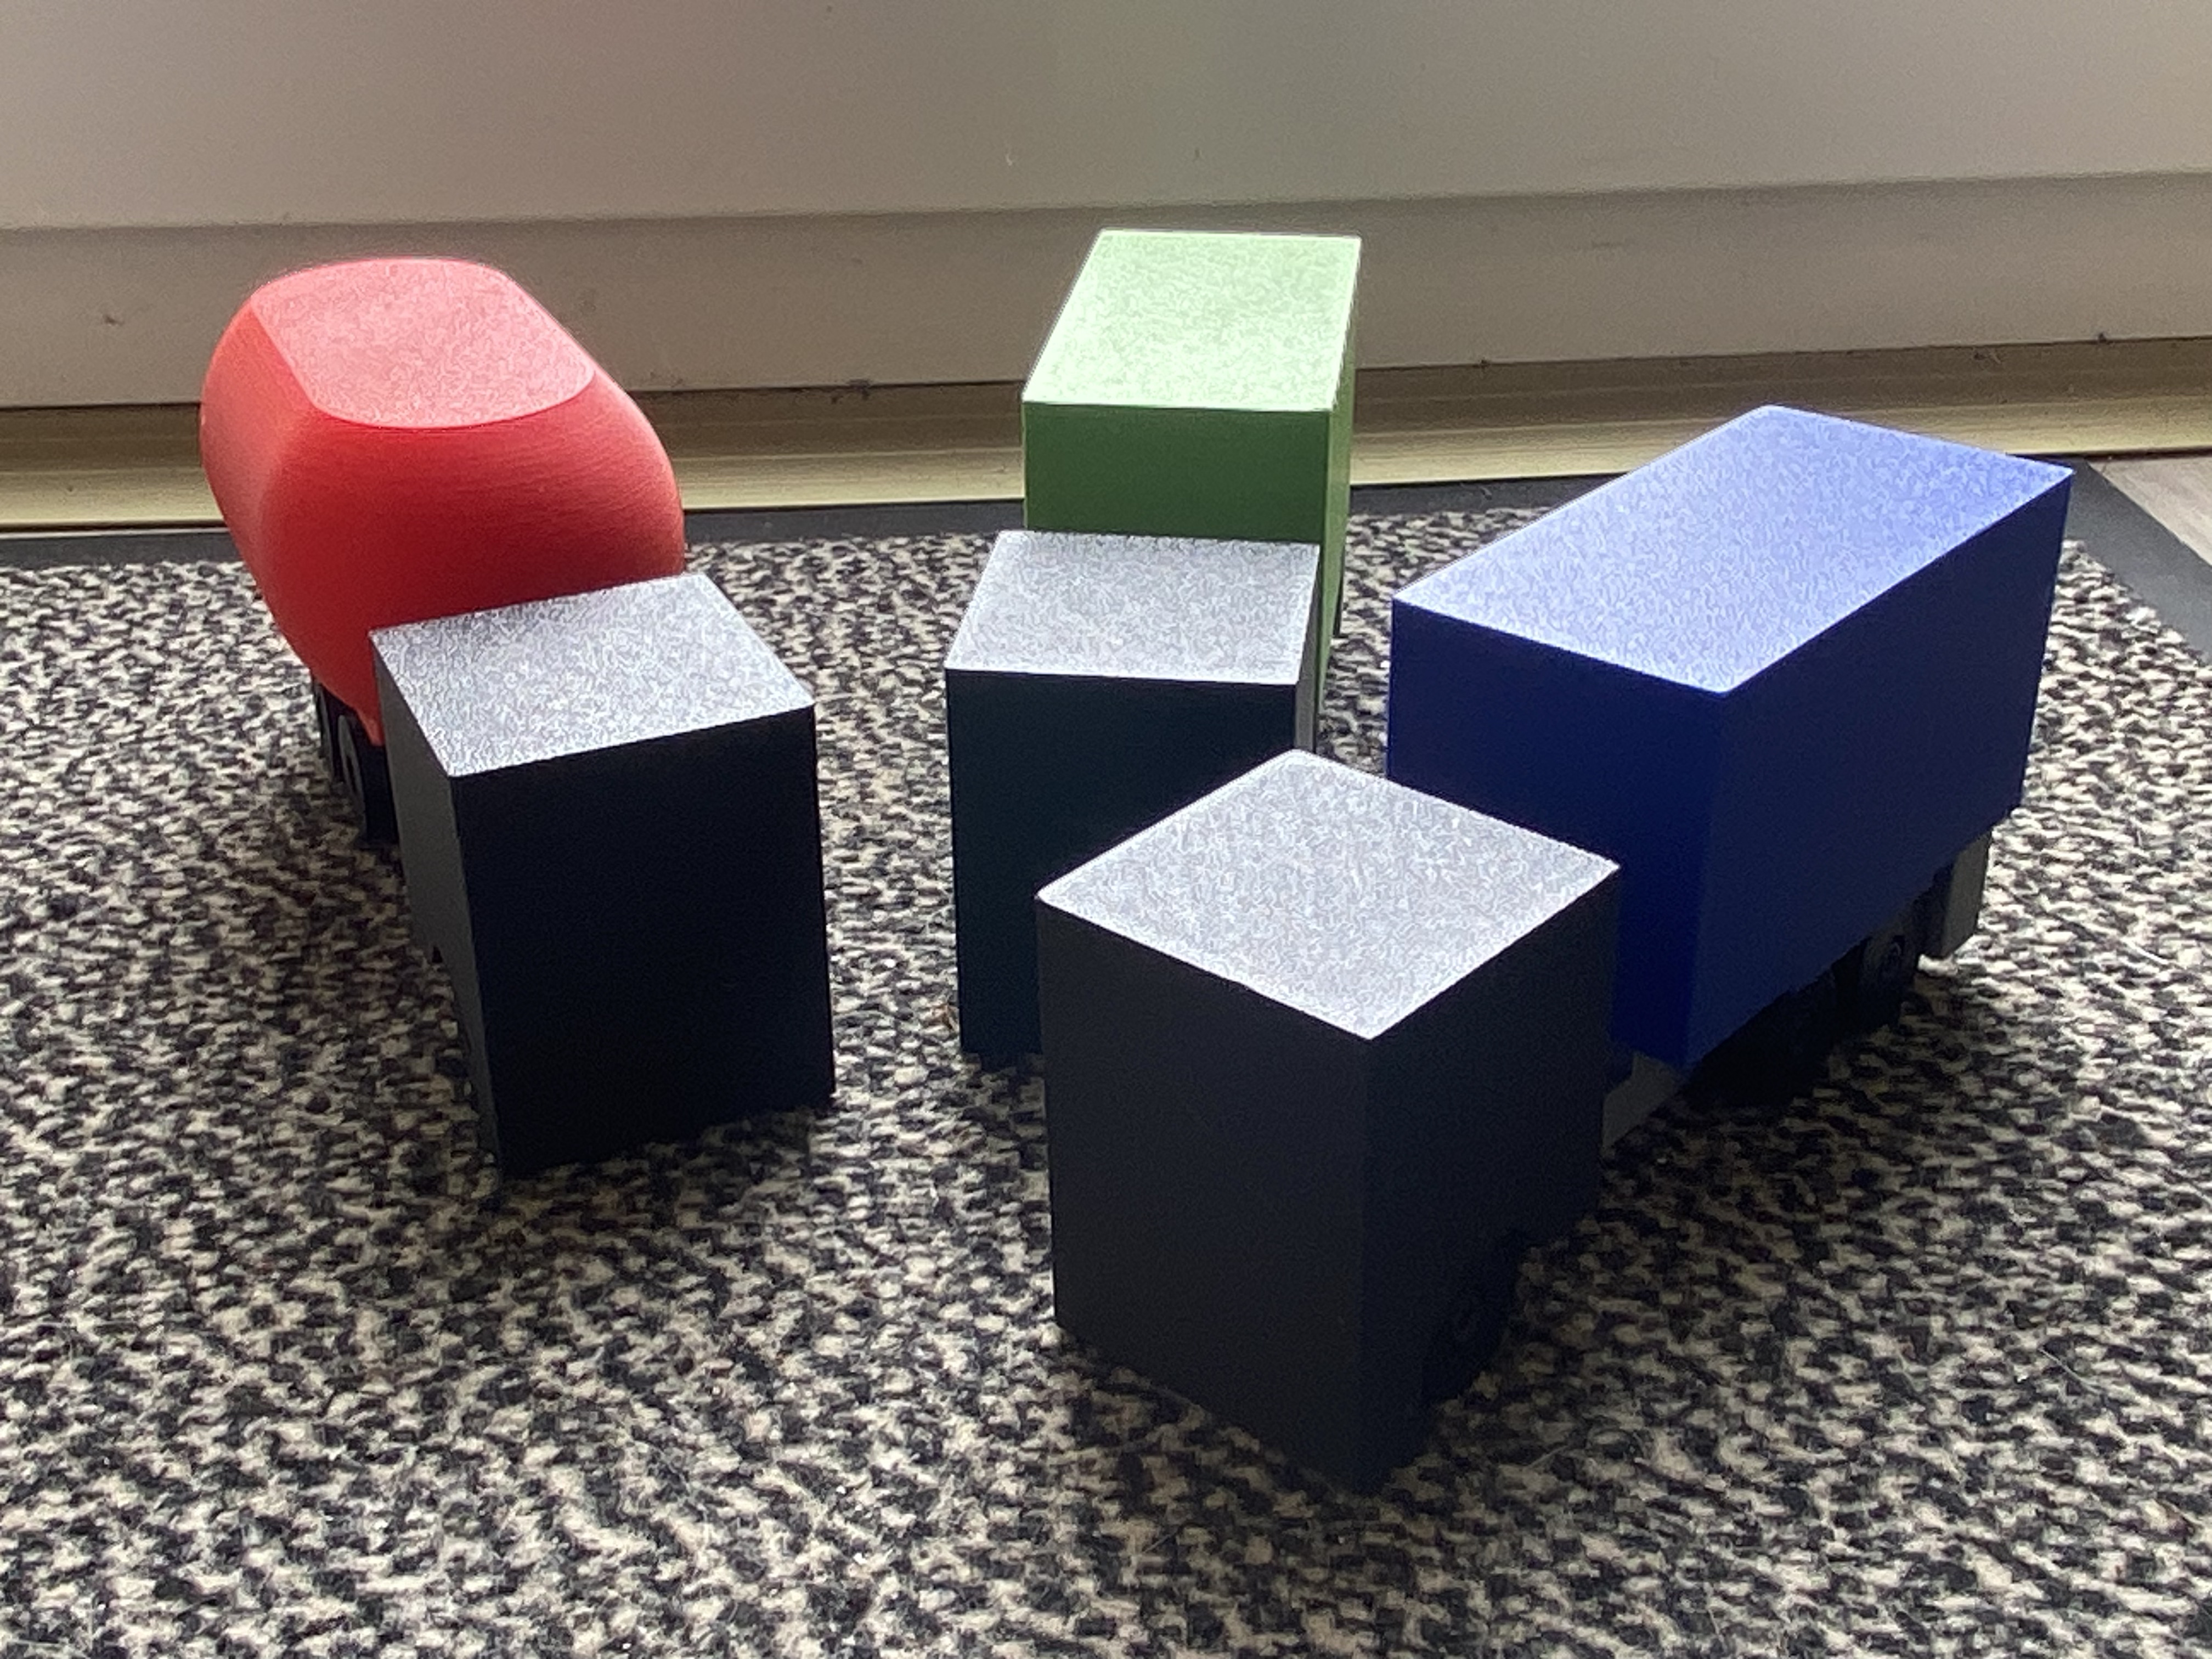blue_truck: (909, 573, 2212, 1243)
green_truck: (948, 211, 1338, 1073)
red_truck: (366, 237, 820, 1180)
